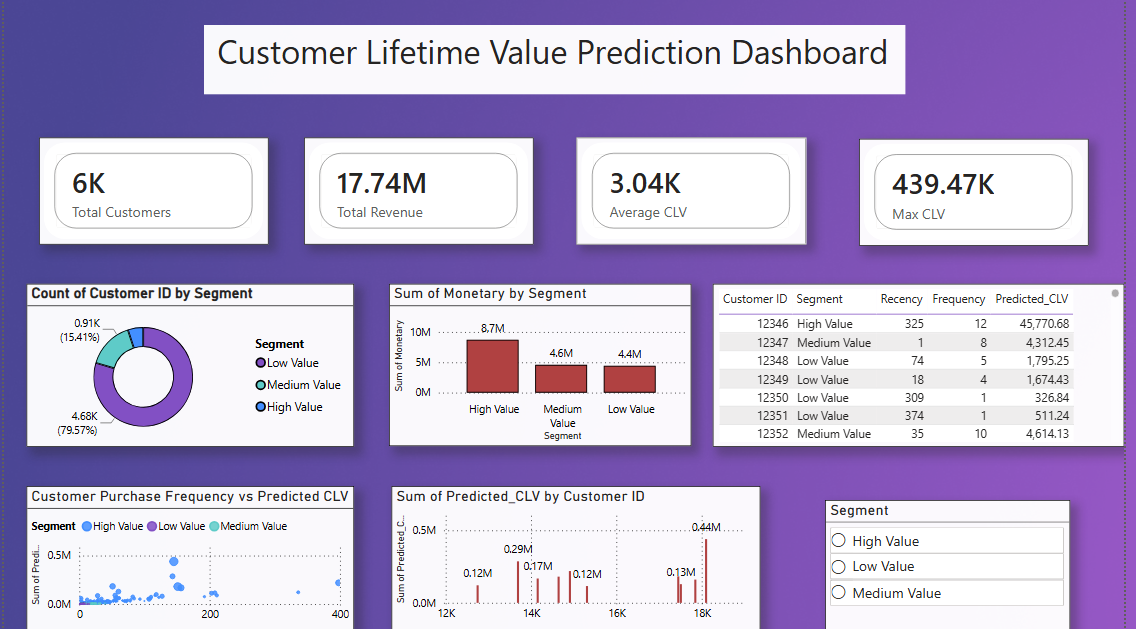

What the dashboard file says about the page in this screenshot:
{"tool":"powerbi","page":{"name":"Page 1","canvas":[1280,720],"ordinal":0},"visuals":[{"type":"cardVisual","fields":{"Data":["clv_predictions.Total Customers"]},"box":[39.8,157.8,262.1,122.1],"z":0},{"type":"donutChart","fields":{"Category":["clv_predictions.Segment"],"Y":["CountNonNull(clv_predictions.Customer ID)"]},"box":[26.1,323.8,374.6,186.6],"z":4000},{"type":"clusteredColumnChart","fields":{"Category":["clv_predictions.Segment"],"Y":["Sum(clv_predictions.Monetary)"]},"box":[440.5,323.8,345.8,185.2],"z":5000},{"type":"scatterChart","title":"Customer Purchase Frequency vs Predicted CLV","fields":{"X":["Sum(clv_predictions.Frequency)"],"Y":["Sum(clv_predictions.Predicted_CLV)"],"Series":["clv_predictions.Segment"],"Size":["Sum(clv_predictions.Monetary)"],"Category":["clv_predictions.Customer ID"]},"box":[26.1,555.7,374.6,164.7],"z":6000},{"type":"columnChart","fields":{"Category":["clv_predictions.Customer ID"],"Y":["Sum(clv_predictions.Predicted_CLV)"]},"box":[443.2,555.7,421.3,164.7],"z":7000},{"type":"tableEx","fields":{"Values":["clv_predictions.Customer ID","clv_predictions.Segment","clv_predictions.Recency","clv_predictions.Frequency","clv_predictions.Predicted_CLV"]},"box":[809.6,323.8,470.7,186.6],"z":8000},{"type":"textbox","box":[229.2,28.8,801.4,79.6],"z":9000},{"type":"listSlicer","fields":{"Values":["clv_predictions.Segment"]},"box":[938.6,570.8,279.9,149.6],"z":10000},{"type":"cardVisual","fields":{"Data":["clv_predictions.Max CLV"]},"box":[977,159.2,262.1,122.1],"z":10001},{"type":"cardVisual","fields":{"Data":["clv_predictions.Average CLV"]},"box":[654.5,157.8,262.1,122.1],"z":10002},{"type":"cardVisual","fields":{"Data":["clv_predictions.Total Revenue"]},"box":[343.1,157.8,262.1,122.1],"z":10003}]}

Visuals, with their boxes in screenshot pixels (x1, y1, x2, y2), scaled from the page's 1280x720 canvas onto the 1136x629 screenshot:
cardVisual - clv_predictions.Total Customers: bbox=(35, 138, 268, 245)
donutChart - clv_predictions.Segment x CountNonNull(clv_predictions.Customer ID): bbox=(23, 283, 356, 446)
clusteredColumnChart - clv_predictions.Segment x Sum(clv_predictions.Monetary): bbox=(391, 283, 698, 445)
"Customer Purchase Frequency vs Predicted CLV" scatterChart: bbox=(23, 485, 356, 628)
columnChart - clv_predictions.Customer ID x Sum(clv_predictions.Predicted_CLV): bbox=(393, 485, 767, 628)
tableEx - clv_predictions.Customer ID x clv_predictions.Segment: bbox=(719, 283, 1135, 446)
textbox: bbox=(203, 25, 915, 95)
listSlicer - clv_predictions.Segment: bbox=(833, 499, 1081, 628)
cardVisual - clv_predictions.Max CLV: bbox=(867, 139, 1100, 246)
cardVisual - clv_predictions.Average CLV: bbox=(581, 138, 813, 245)
cardVisual - clv_predictions.Total Revenue: bbox=(305, 138, 537, 245)
